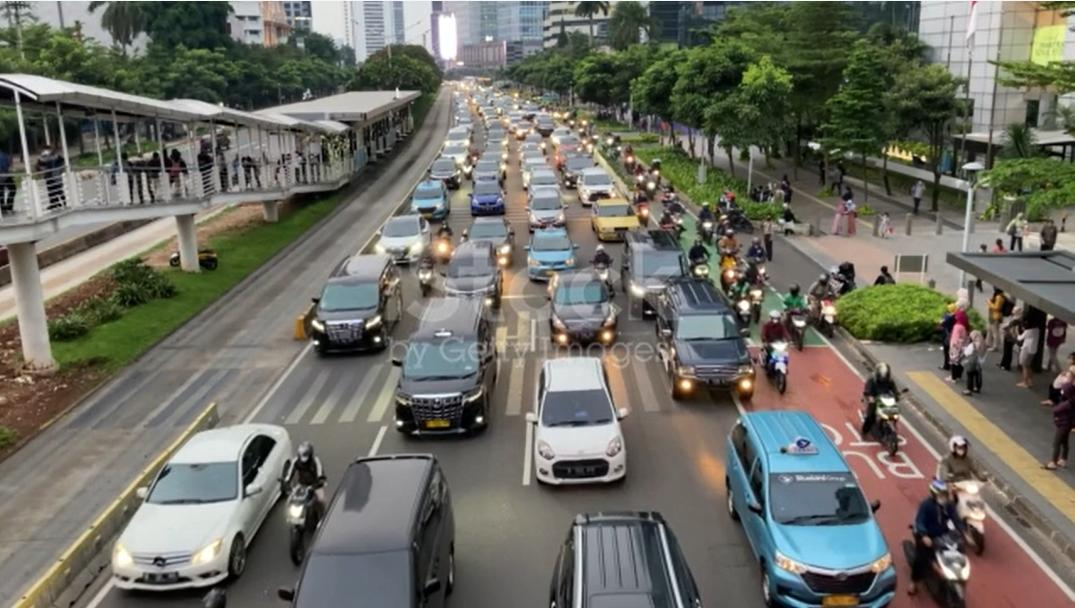car: (703, 400, 908, 608), (109, 401, 302, 608), (310, 443, 463, 608), (522, 349, 643, 510), (390, 286, 504, 456), (539, 511, 703, 608), (643, 276, 758, 411), (299, 267, 406, 365), (617, 220, 697, 318), (546, 273, 624, 358), (438, 238, 506, 301), (370, 210, 430, 261), (521, 229, 574, 281), (341, 250, 396, 300), (464, 216, 515, 266), (589, 196, 633, 246), (572, 167, 620, 207), (525, 193, 565, 235), (466, 179, 512, 215), (428, 155, 466, 197), (412, 179, 450, 215), (465, 159, 509, 189), (528, 169, 563, 201)
motorcycle: (269, 415, 327, 590), (918, 466, 1001, 545), (903, 534, 985, 608), (846, 381, 914, 468), (754, 335, 796, 398), (805, 290, 844, 340), (428, 227, 457, 275), (709, 241, 747, 274), (781, 299, 809, 343), (687, 249, 714, 292), (591, 254, 615, 299), (414, 254, 437, 299), (732, 289, 755, 333), (750, 256, 770, 294), (665, 208, 687, 236), (698, 215, 717, 245)
